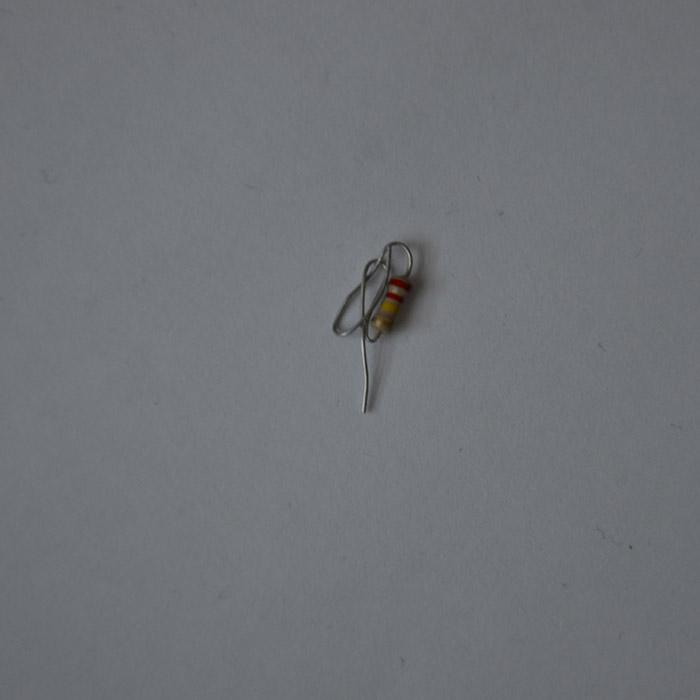resistor: (371, 276, 412, 335)
